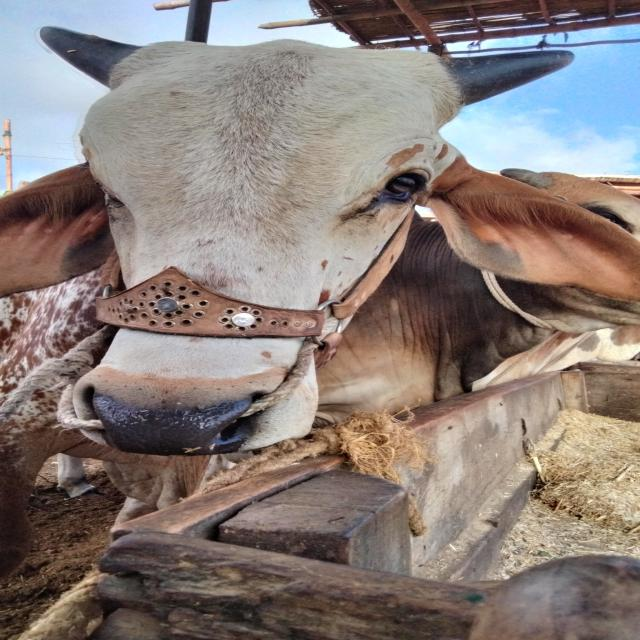muzzles: (65, 374, 277, 459)
